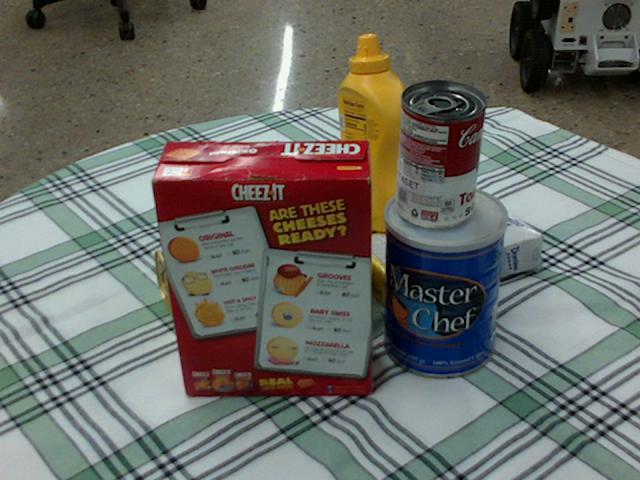cracker_box: (145, 140, 371, 394)
gelatin_box: (318, 179, 419, 250)
master_chef_can: (383, 181, 508, 377)
mug: (256, 211, 356, 328)
mustard_bottle: (337, 35, 416, 232)
potted_meat_can: (155, 236, 270, 340)
sugar_box: (349, 197, 542, 312)
tomato_soup_can: (395, 80, 484, 227)
tuna_fish_can: (167, 206, 260, 283)
